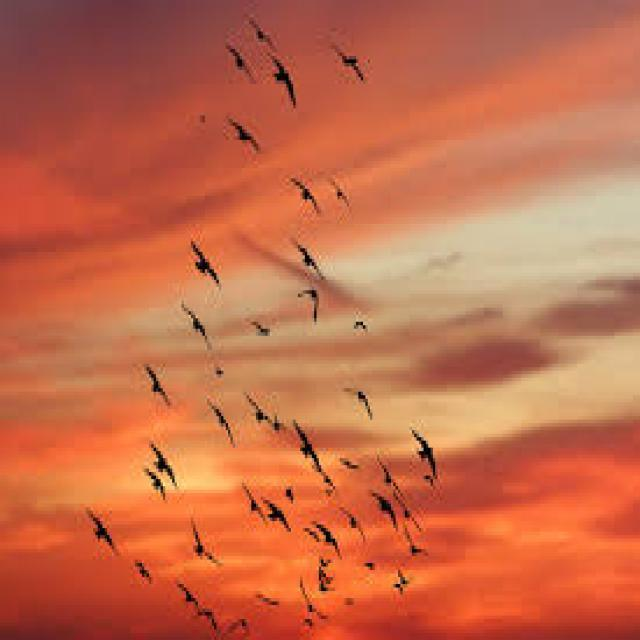bird: (178, 235, 224, 298), (270, 58, 312, 120), (176, 294, 216, 354), (324, 156, 361, 218), (187, 518, 227, 570), (282, 166, 324, 215), (84, 502, 118, 562), (335, 38, 372, 91), (288, 231, 328, 280), (226, 26, 256, 89), (296, 284, 330, 339), (408, 418, 436, 481), (231, 110, 262, 166), (245, 8, 288, 48), (374, 454, 408, 504), (208, 392, 238, 448), (143, 363, 176, 412), (241, 476, 269, 532), (148, 438, 182, 484), (290, 420, 324, 466), (296, 578, 330, 624), (246, 398, 286, 434), (260, 493, 294, 535), (313, 512, 343, 558), (404, 524, 438, 564), (168, 577, 202, 612), (247, 314, 280, 350), (140, 465, 173, 500), (132, 546, 158, 588), (376, 500, 404, 535), (343, 509, 369, 544), (348, 383, 379, 411), (198, 596, 222, 632), (350, 309, 371, 341), (227, 610, 250, 632), (395, 566, 413, 592), (336, 456, 359, 474)
